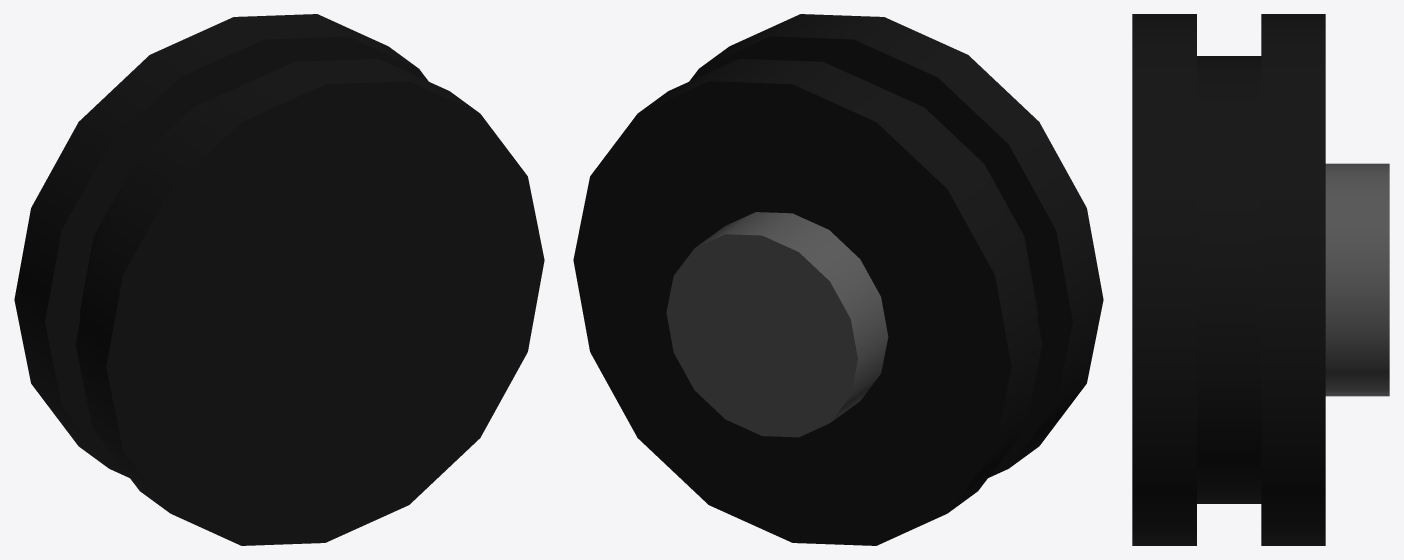
Rendered from Train_whell.fbx.
The picture shows the model from 3 angles, left to right: view 1: azimuth 30°, elevation 25°; view 2: azimuth 150°, elevation 25°; view 3: azimuth 270°, elevation 25°; orthographic projection. The views are drawn at different scales.
Parts seen in each view (by area): view 1: Train_whell; view 2: Train_whell; view 3: Train_whell.
Part boxes in pixels (left/top/right/bottom): Train_whell: left=14, top=14, right=544, bottom=545; Train_whell: left=573, top=14, right=1103, bottom=545; Train_whell: left=1132, top=14, right=1389, bottom=545.
Size of the model in its own units: 94.23 by 94.23 by 45.5.
